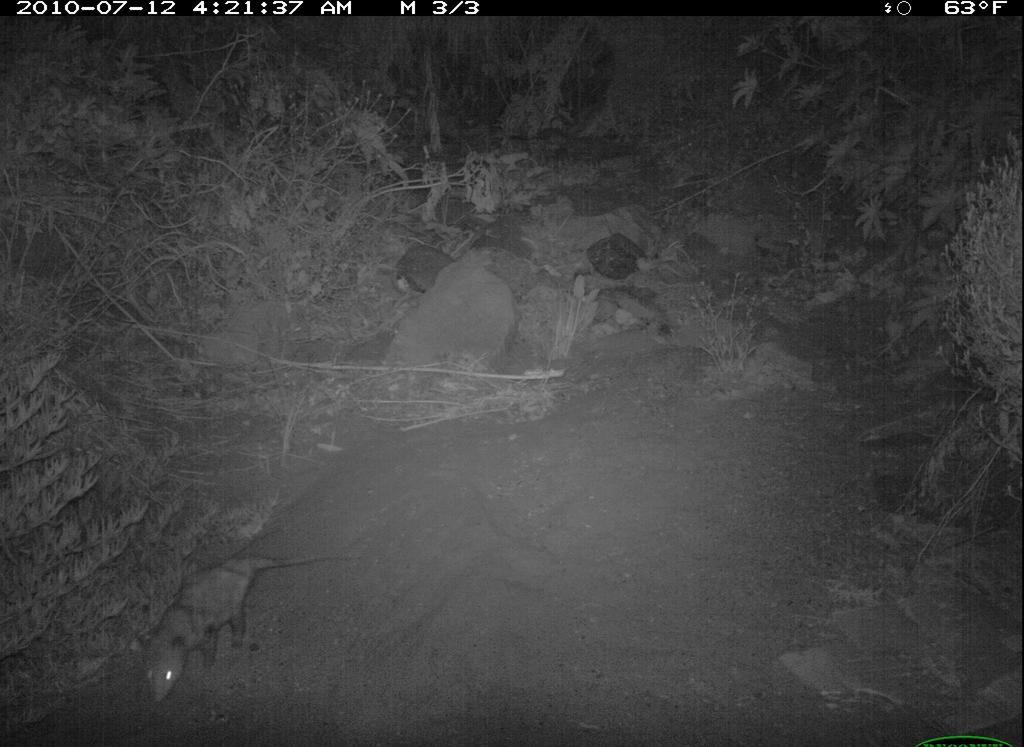opossum: (134, 545, 336, 716)
